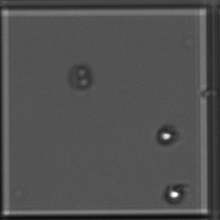Dead Cell: (63, 60, 94, 97)
Living Cell: (152, 125, 180, 149), (167, 180, 189, 205)
